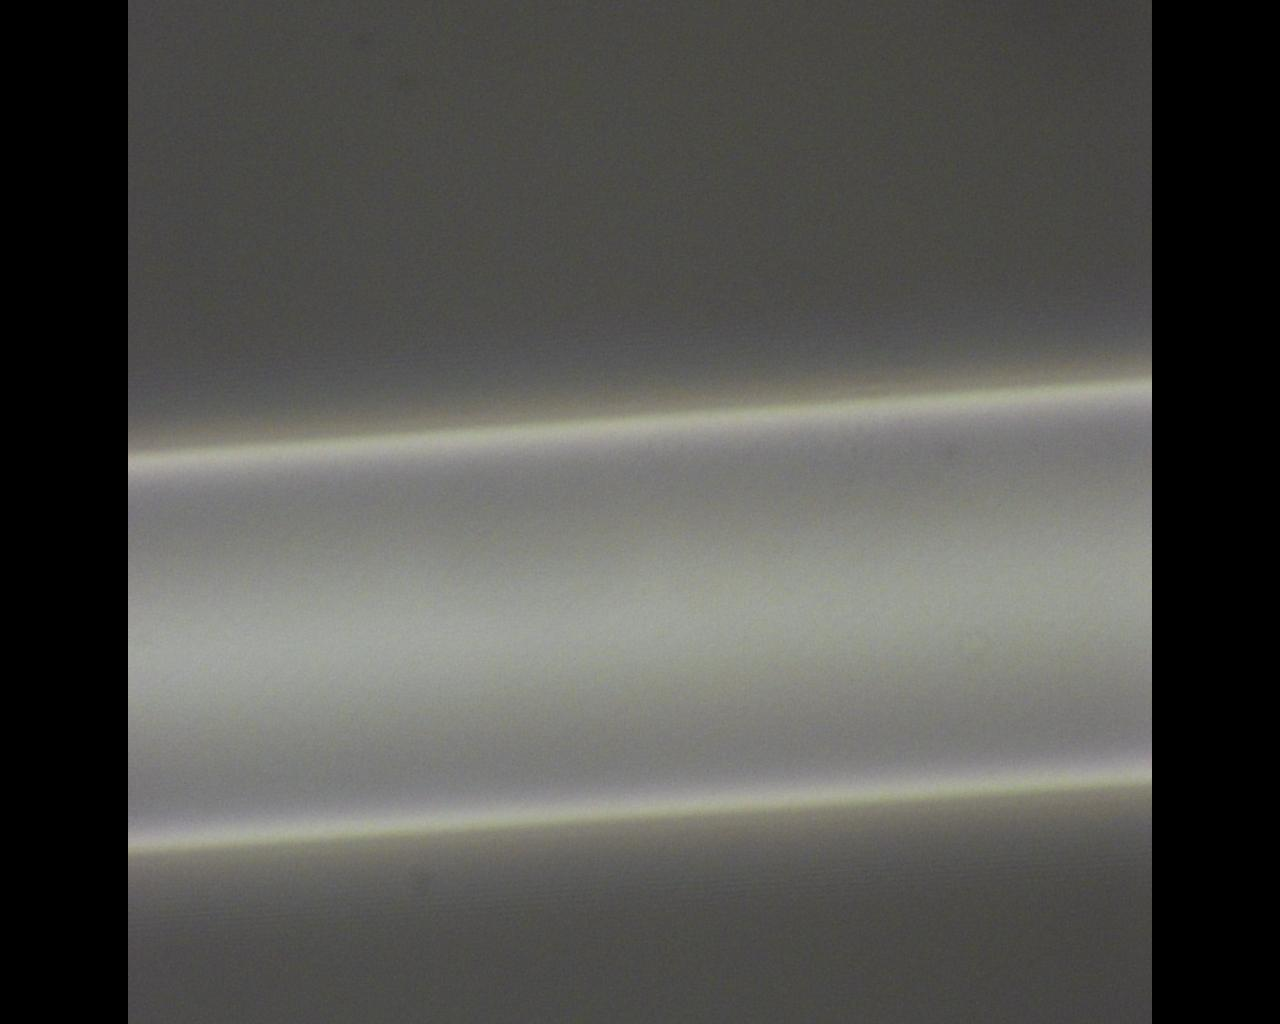fiber: (127, 374, 1151, 858)
